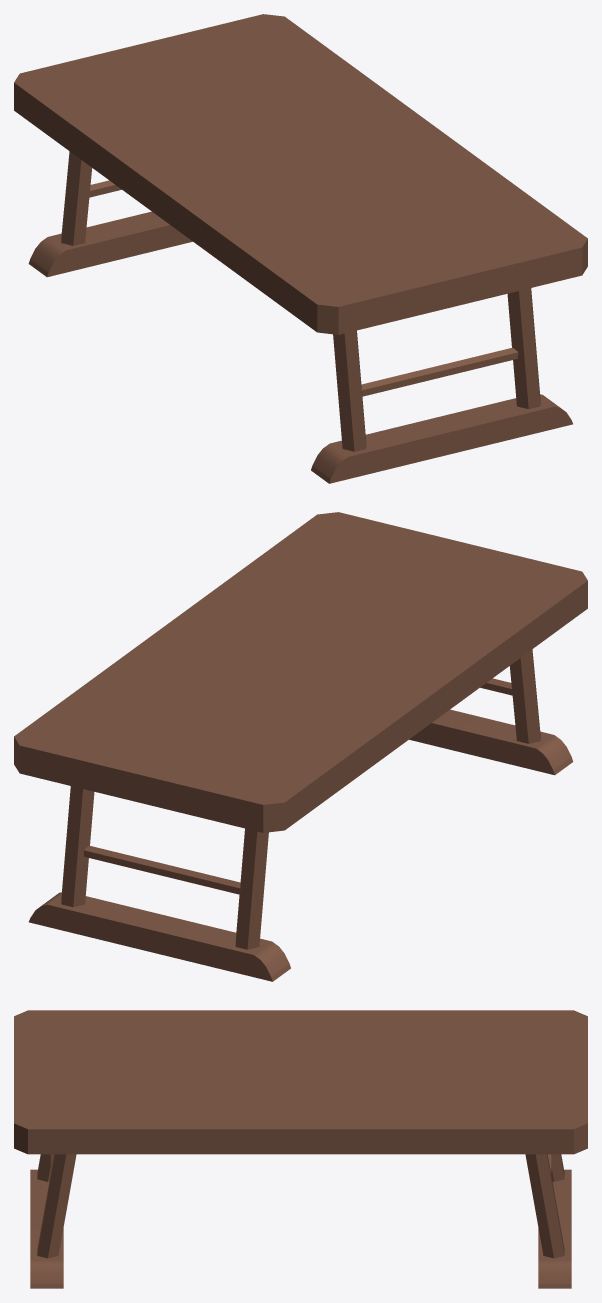
The picture shows the model from 3 angles, top to bottom: view 1: azimuth 30°, elevation 25°; view 2: azimuth 150°, elevation 25°; view 3: azimuth 270°, elevation 25°; orthographic projection. The views are drawn at different scales.
Visible parts, largest first — view 1: 桌子2; view 2: 桌子2; view 3: 桌子2.
Part boxes in pixels (x1,y1,x2,y2): 桌子2: (14,14,587,483); 桌子2: (14,512,587,981); 桌子2: (14,1010,587,1288).
Bounding box in the file's own units: 127 × 82.46 × 260.
